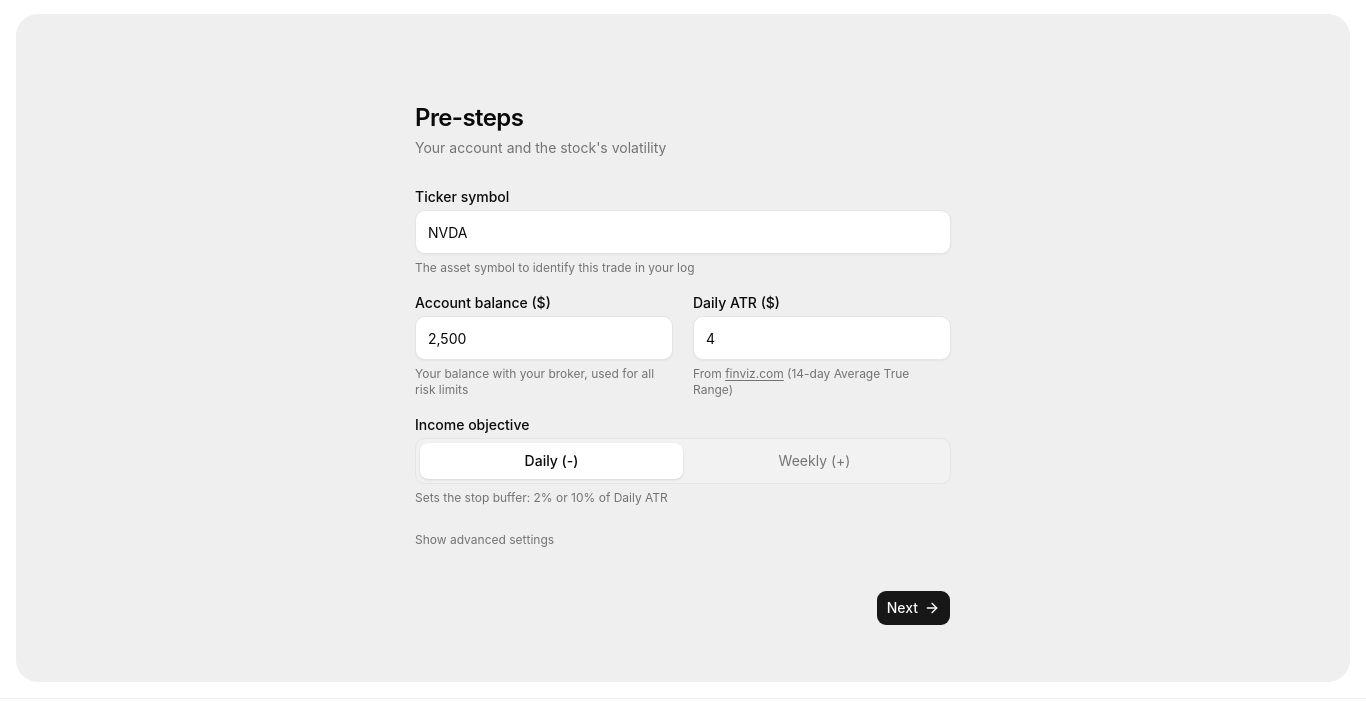
Test: hydrating saved risk/buffer beyond the caps: normalizes the fields to the limits
Step 1. Click the button "Show advanced settings" → (485, 540), box [415,532,554,548]
(page scrolled)
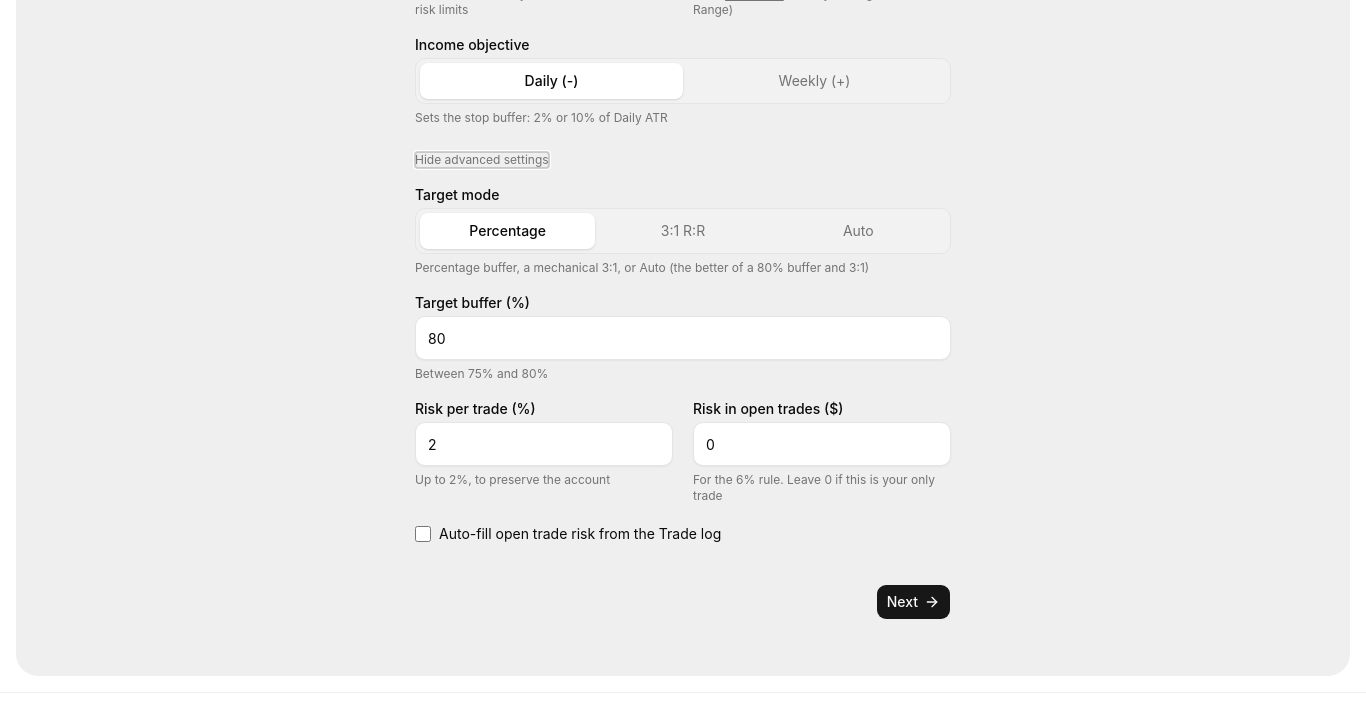
Result: the number field labelled "Risk per trade (%)" holds "2" at [415,422,673,466]
Result: the number field labelled "Target buffer (%)" holds "80" at [415,316,951,360]
